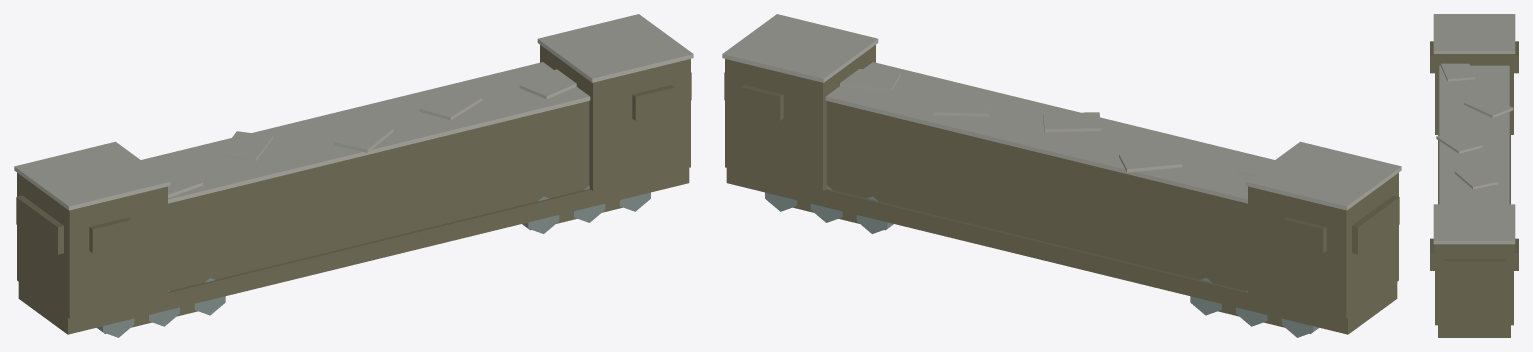
The model's file is SM_Locomotora_v3_Quemada_LOD1.fbx.
3 renders of one model, left to right at view 1: azimuth 30°, elevation 25°; view 2: azimuth 150°, elevation 25°; view 3: azimuth 270°, elevation 25°, orthographic. The views are drawn at different scales.
Visible parts, largest first — view 1: SM_aqui_paso_algo_v3_LOD1; view 2: SM_aqui_paso_algo_v3_LOD1; view 3: SM_aqui_paso_algo_v3_LOD1.
Boxes of the visible parts, <box> form: SM_aqui_paso_algo_v3_LOD1: <box>14,14,693,337</box>; SM_aqui_paso_algo_v3_LOD1: <box>722,14,1401,337</box>; SM_aqui_paso_algo_v3_LOD1: <box>1430,14,1518,337</box>.
Bounding box in the file's own units: 19.38 × 4.32 × 3.16.
